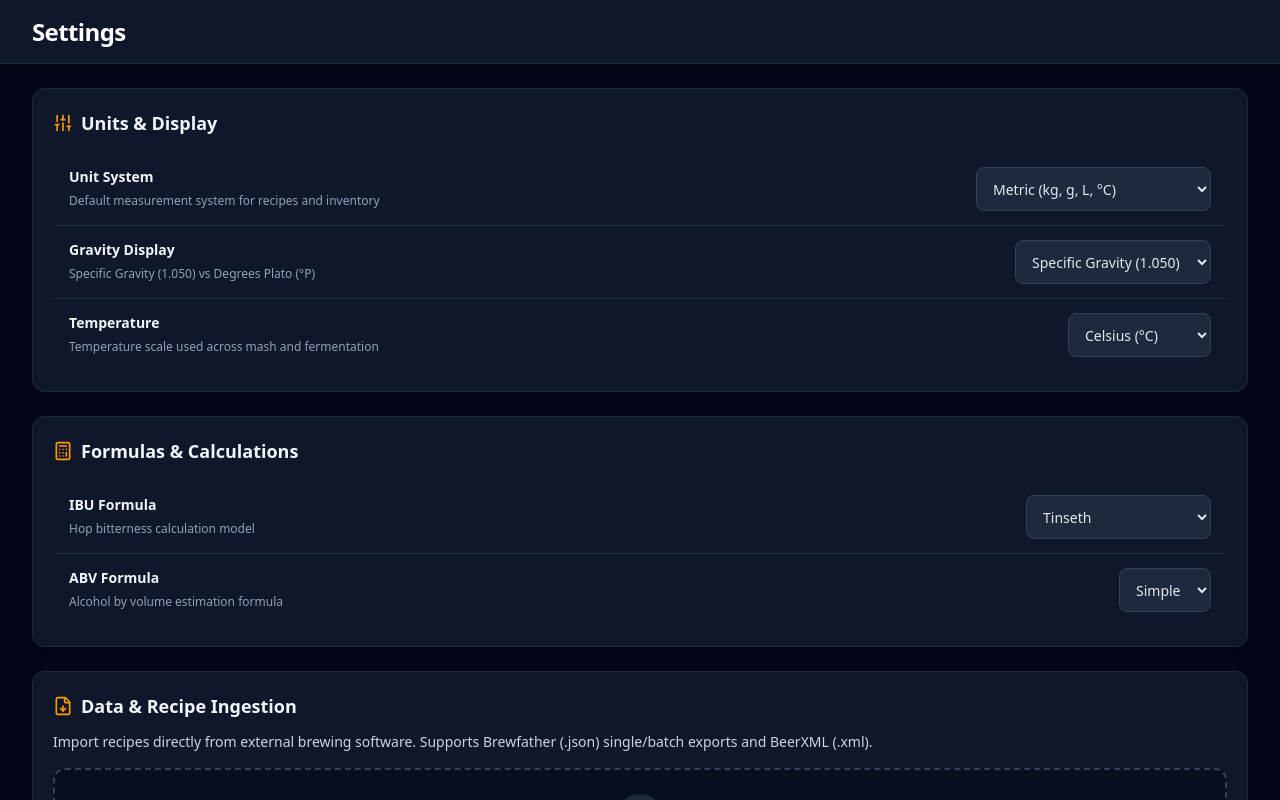
Test: AC-10: selecting a new setting triggers PUT /api/config and updates state › reverts the optimistic update and shows an error if the PUT fails
Step 1. Select "Rager" in the dropdown with test id "settings-select-ibuFormula" → x=1118, y=517, box x1=1026 y1=495 x2=1211 y2=539
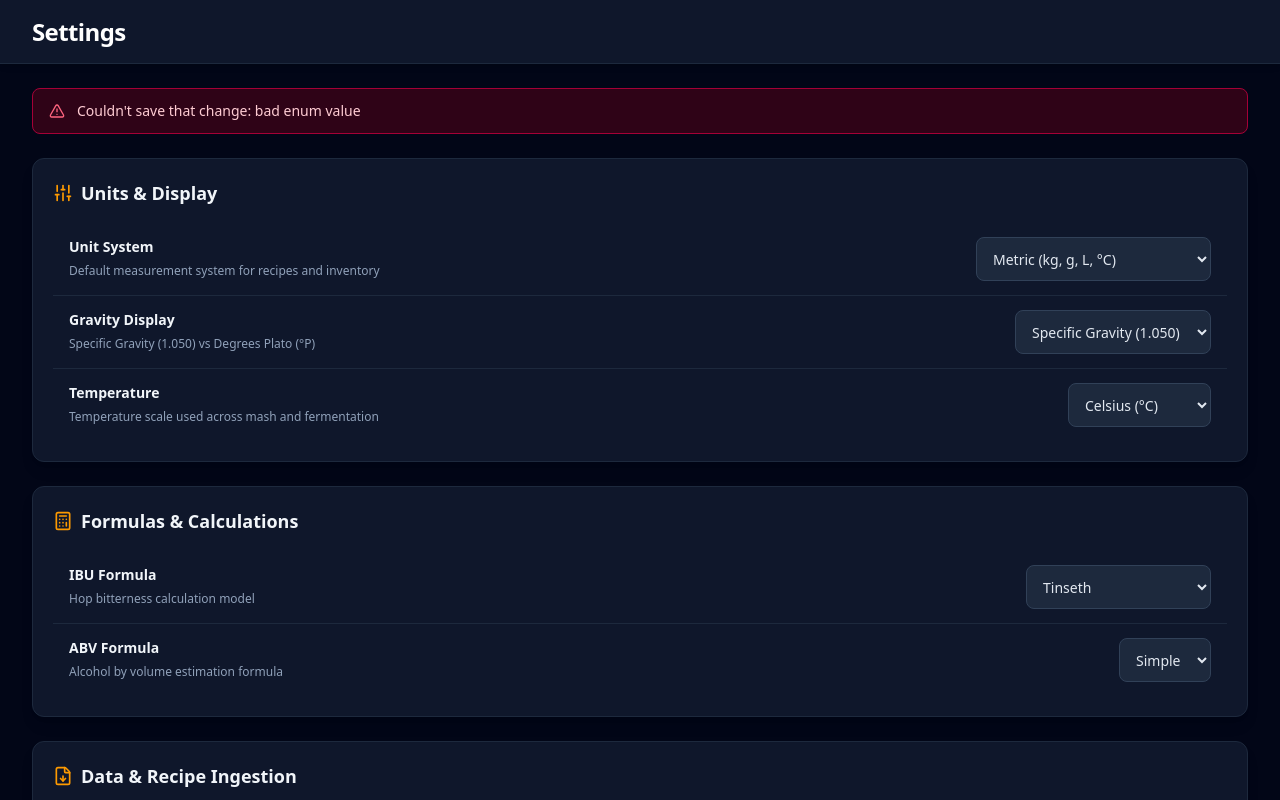
Check: the text "Couldn't save that change: bad enum value" is shown, box x1=32 y1=88 x2=1248 y2=134
